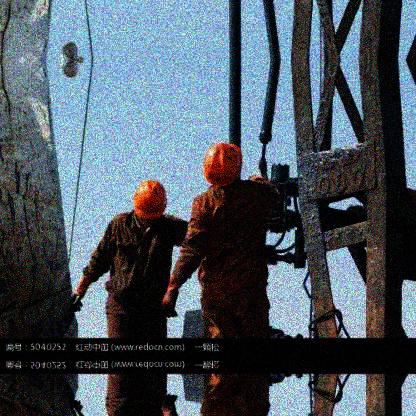helmet: (205, 143, 245, 202), (132, 180, 168, 233)
